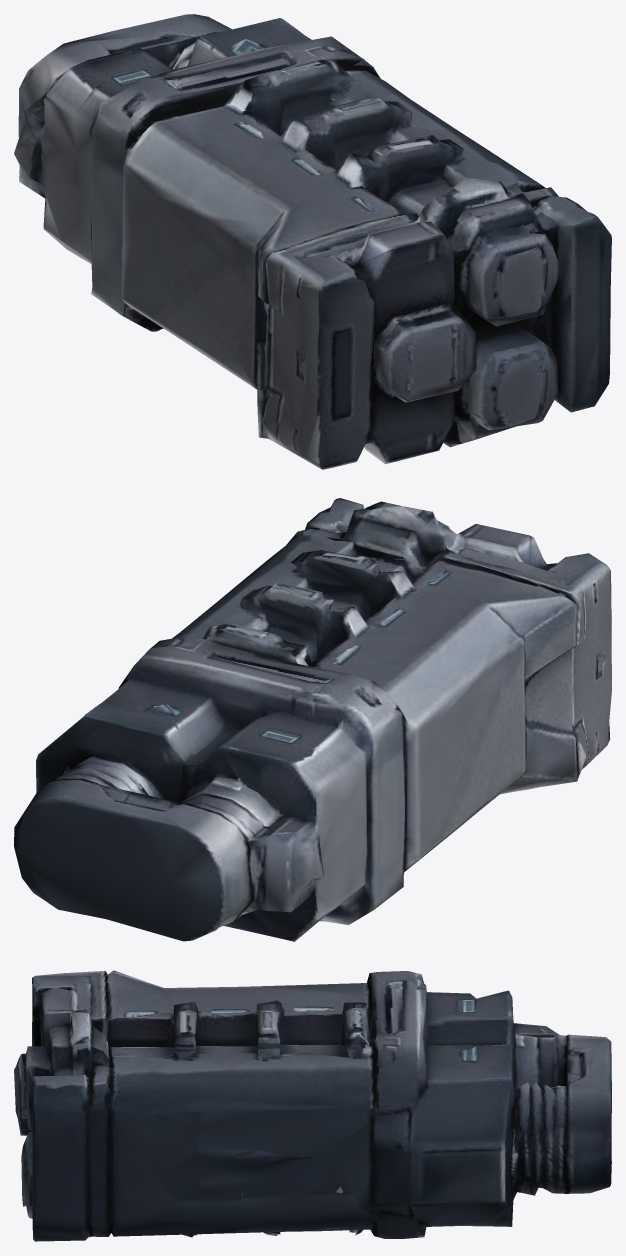
File: wpn_charge_cannon.glb
3 renders of one model, top to bottom at view 1: azimuth 30°, elevation 25°; view 2: azimuth 150°, elevation 25°; view 3: azimuth 270°, elevation 25°, orthographic. The views are drawn at different scales.
Visible parts, largest first — view 1: wpn_charge_cannon; view 2: wpn_charge_cannon; view 3: wpn_charge_cannon.
Part boxes in pixels (left/top/right/bottom): wpn_charge_cannon: left=14, top=14, right=611, bottom=469; wpn_charge_cannon: left=14, top=498, right=611, bottom=941; wpn_charge_cannon: left=14, top=970, right=611, bottom=1241.
Bounding box in the file's own units: 0.1396 × 0.108 × 0.2689.
Materials: 1 (1 with a texture image).
